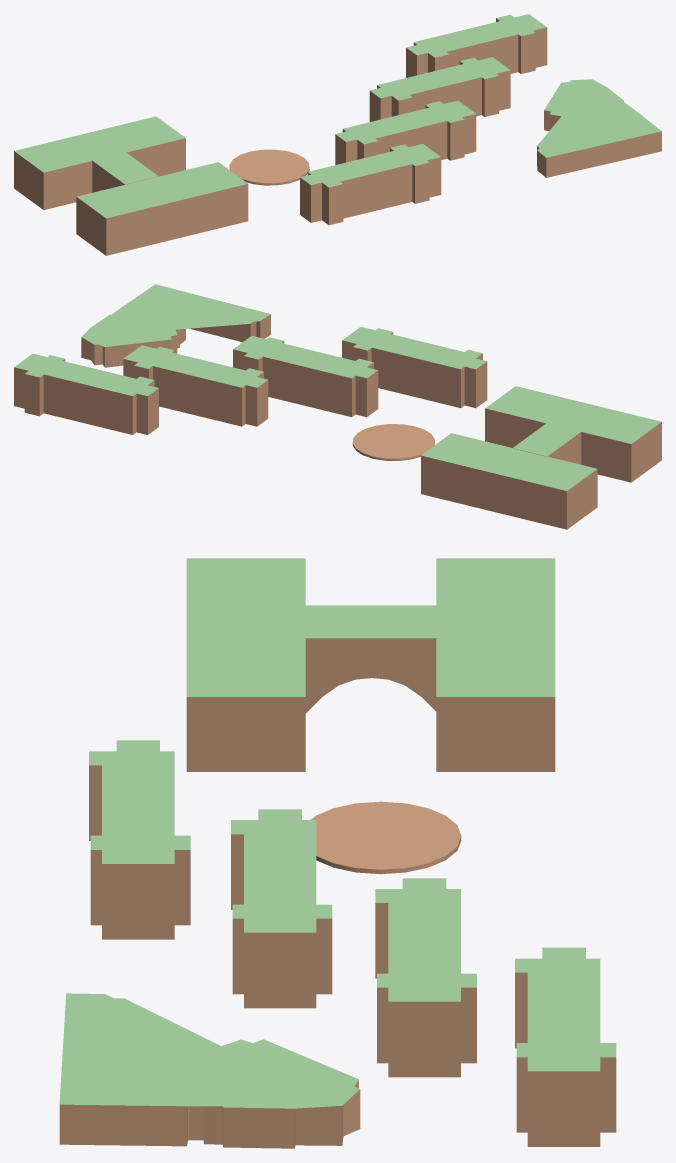
The model's file is UAO FBX.fbx.
The picture shows the model from 3 angles, top to bottom: view 1: azimuth 30°, elevation 25°; view 2: azimuth 150°, elevation 25°; view 3: azimuth 270°, elevation 25°; orthographic projection. The views are drawn at different scales.
Visible parts, largest first — view 1: pCube2, pCube1, Petetes, pPlane4, Aulas3, Aulas2, Aulas4, pCylinder1, pCube3; view 2: pCube1, pCube2, Petetes, Aulas4, Aulas2, pPlane4, Aulas3, pCylinder1, pCube3; view 3: Petetes, pCube2, pCube1, pPlane4, Aulas4, Aulas2, Aulas3, pCube3, pCylinder1.
Part boxes in pixels (x1,y1,x2,y2): pCube2: [76, 162, 248, 255]; pCube1: [14, 116, 185, 209]; Petetes: [537, 79, 661, 177]; pPlane4: [300, 144, 441, 225]; Aulas3: [369, 57, 510, 121]; Aulas2: [335, 100, 476, 164]; Aulas4: [406, 14, 547, 77]; pCylinder1: [229, 149, 309, 185]; pCube3: [92, 152, 158, 192]; pCube1: [421, 433, 597, 529]; pCube2: [485, 386, 661, 482]; Petetes: [81, 284, 270, 367]; Aulas4: [14, 353, 158, 434]; Aulas2: [233, 336, 378, 417]; pPlane4: [342, 327, 487, 408]; Aulas3: [123, 345, 268, 426]; pCylinder1: [352, 424, 434, 460]; pCube3: [513, 423, 581, 464]; Petetes: [59, 993, 360, 1148]; pCube2: [186, 558, 305, 771]; pCube1: [436, 558, 555, 771]; pPlane4: [89, 740, 190, 939]; Aulas4: [515, 947, 616, 1146]; Aulas2: [231, 809, 332, 1008]; Aulas3: [375, 878, 476, 1077]; pCube3: [305, 605, 437, 713]; pCylinder1: [311, 801, 461, 874].
Size of the model in its own units: 21.77 by 1.49 by 9.94.
